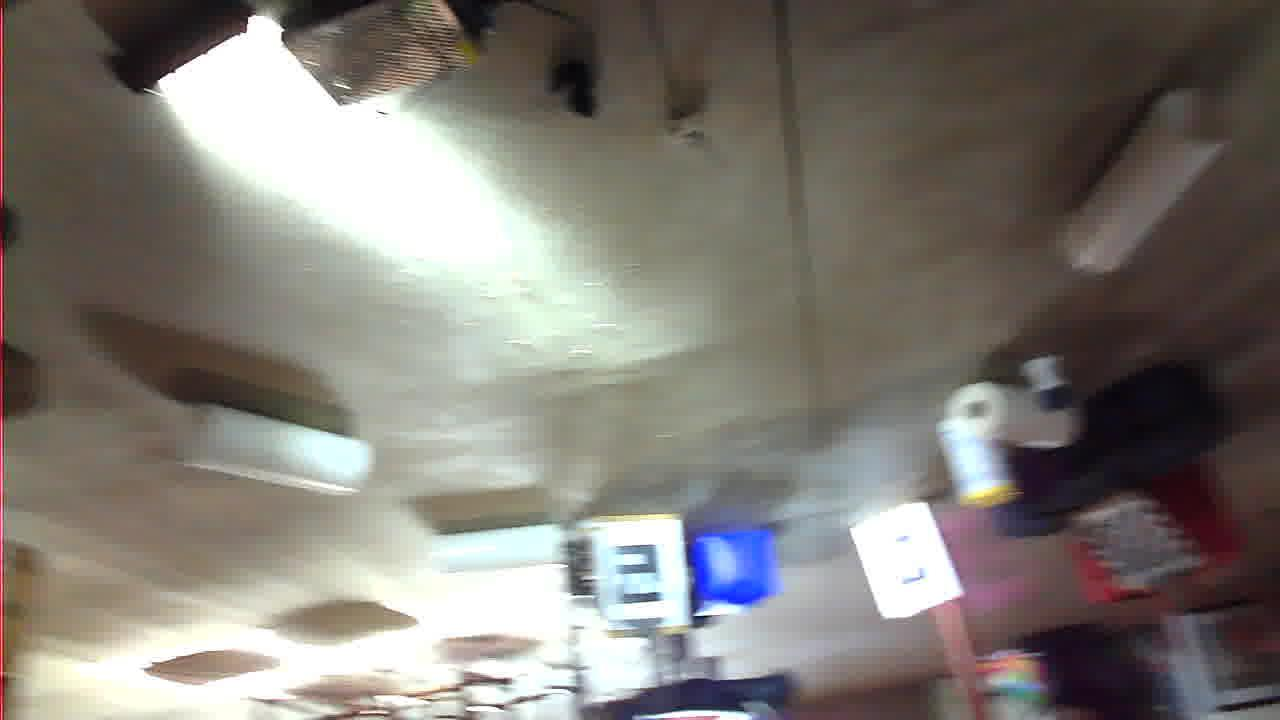coral: (51, 447, 222, 628), (911, 223, 1101, 316), (715, 147, 849, 193)
